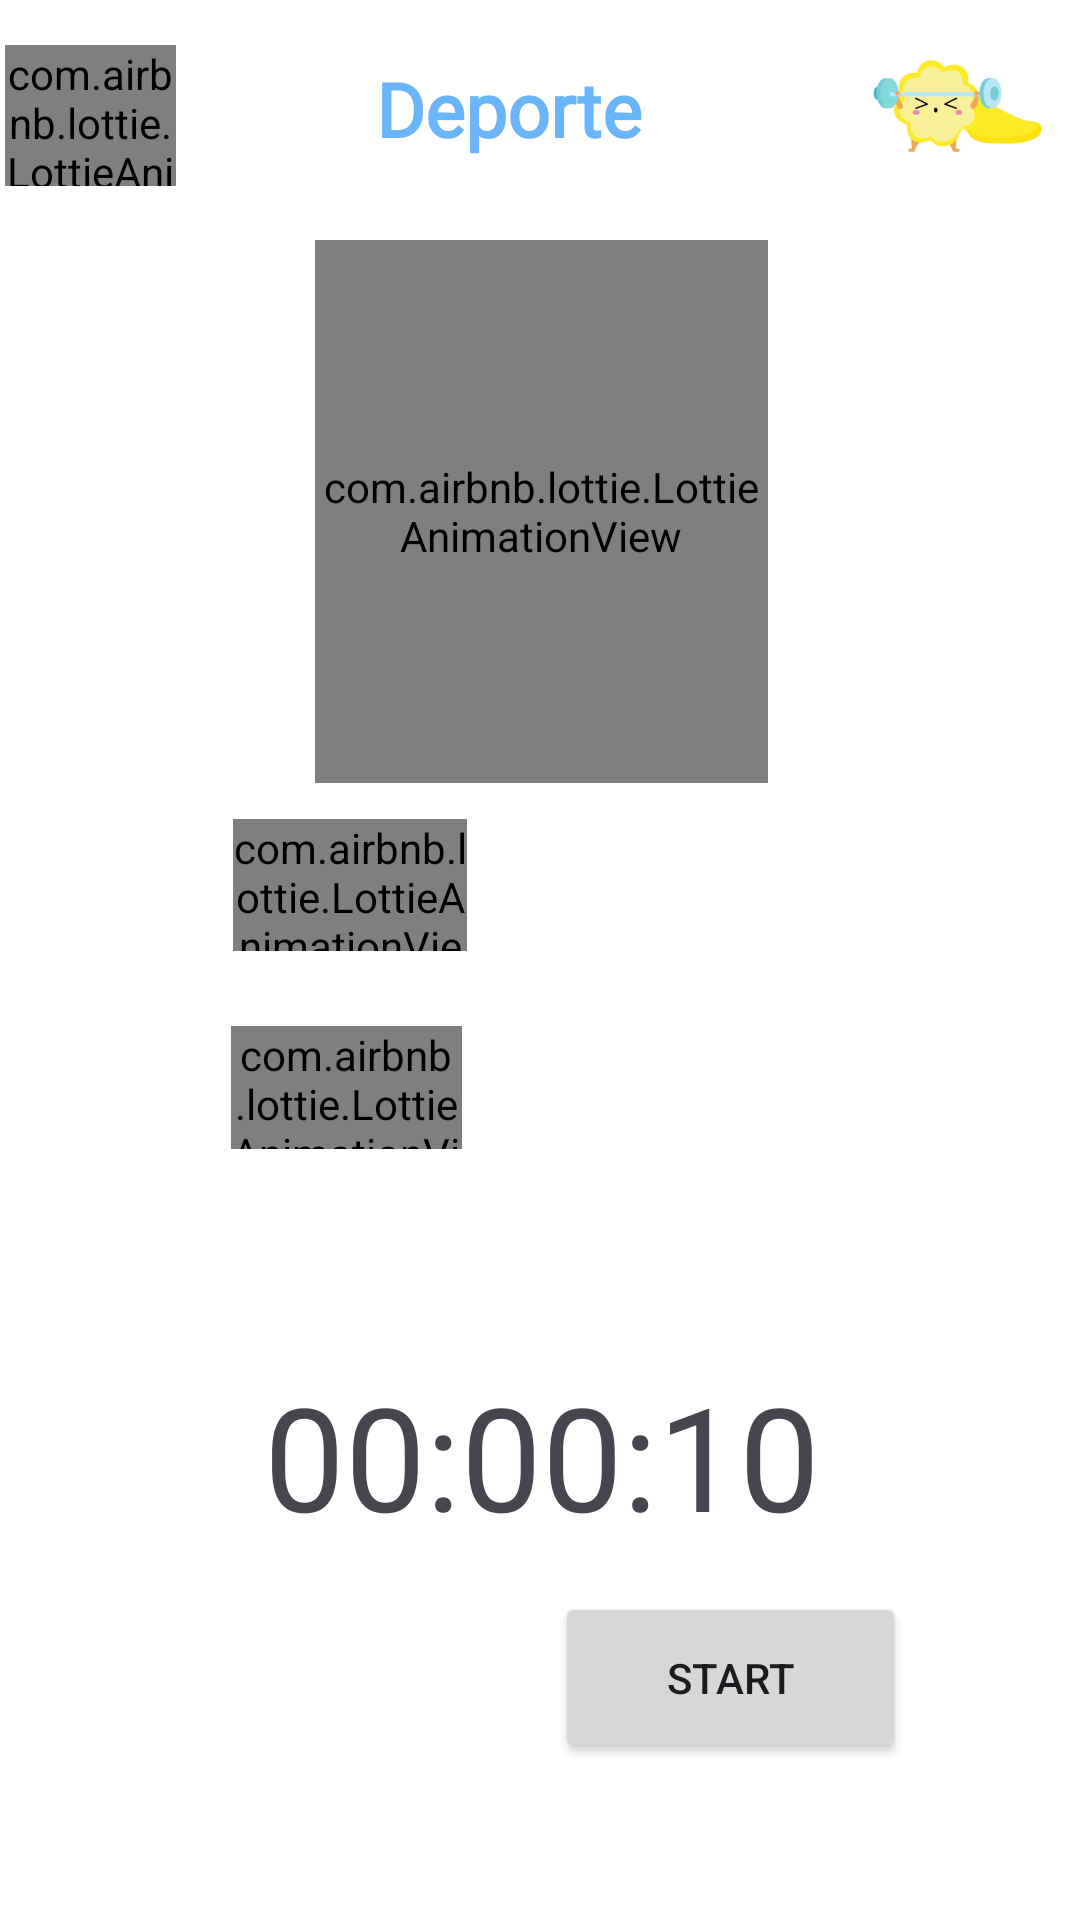

Screen size 1080 × 1920. Icon name, then its box in pixels as (x1, y1, x2, y2):
gym: (873, 60, 1042, 152)
